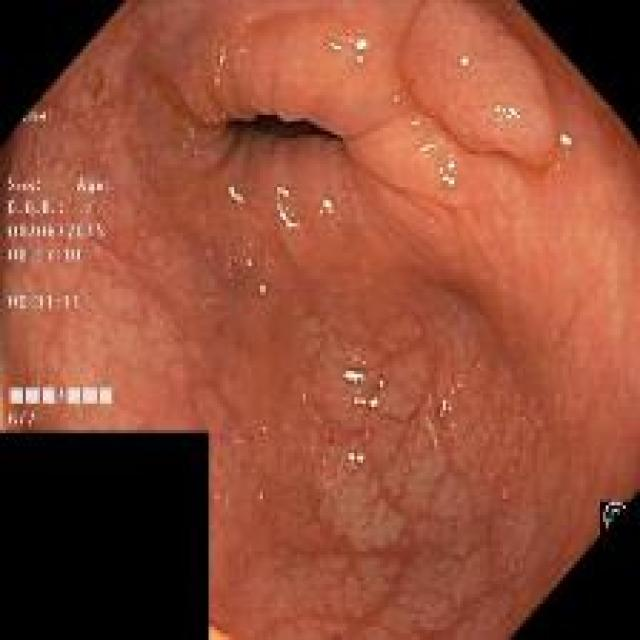Polyps: (402, 7, 556, 167)
